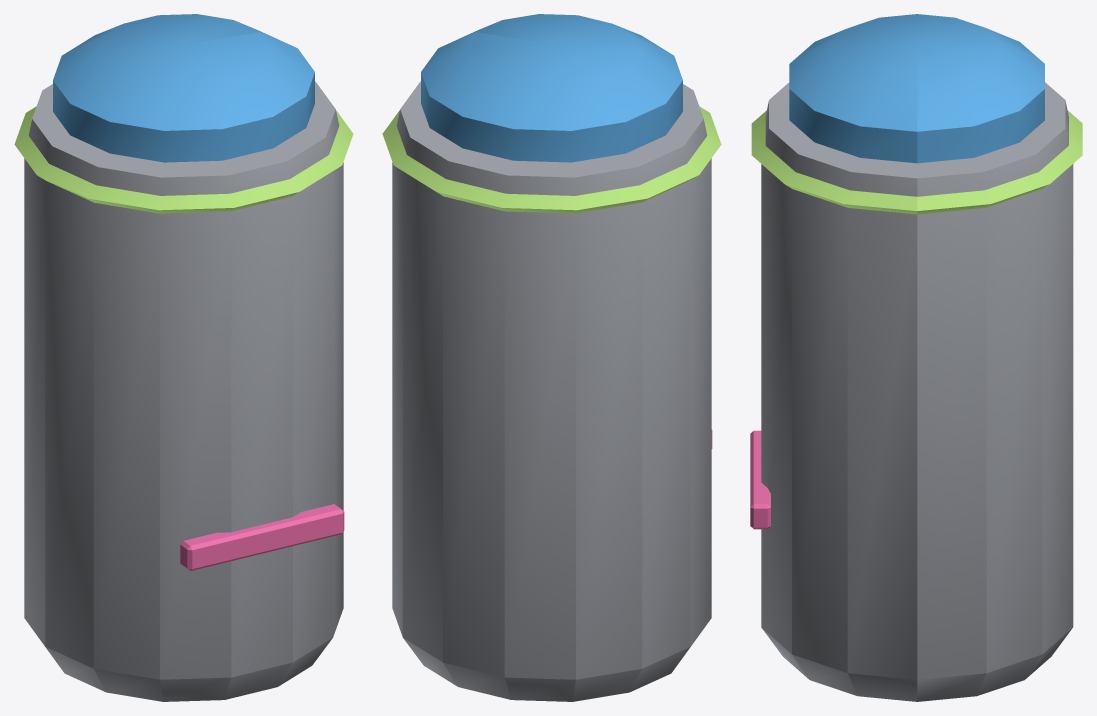
Rendered from trampoline-park-and-soft-play-waste-bin-e092b88f__34645.glb.
The picture shows the model from 3 angles, left to right: view 1: azimuth 30°, elevation 25°; view 2: azimuth 150°, elevation 25°; view 3: azimuth 270°, elevation 25°; orthographic projection.
Parts seen in each view (by area): view 1: waste-bin, lid; view 2: waste-bin, lid; view 3: waste-bin, lid.
Part boxes in pixels (box(x1,y1,x2,y2)): waste-bin: box(14, 81, 353, 701); lid: box(53, 14, 314, 162); waste-bin: box(382, 81, 721, 701); lid: box(421, 14, 682, 162); waste-bin: box(750, 82, 1082, 701); lid: box(789, 14, 1044, 163).
Bounding box in the file's own units: 0.488 × 0.95 × 0.4779.
